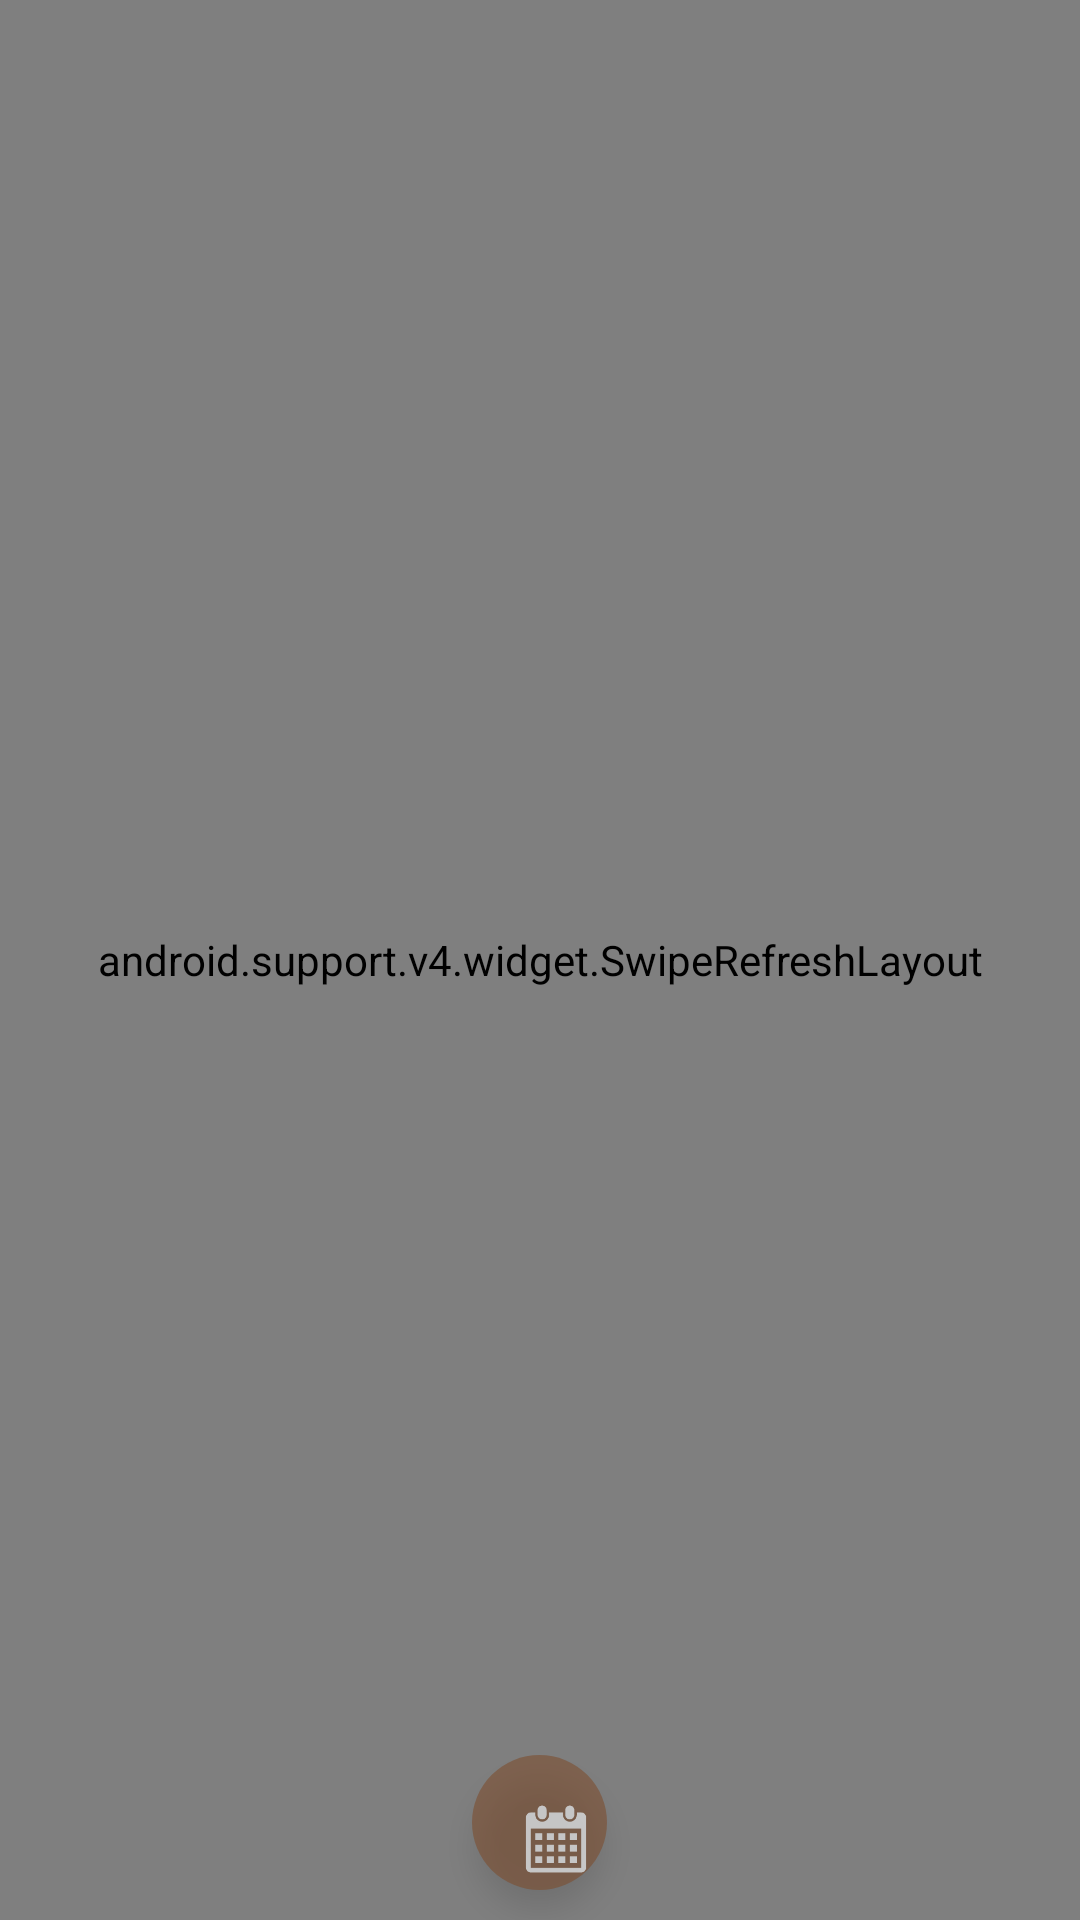

Icons on this 1080w x 1920h Android screen, each with the point to tap as [x,y]:
date: [539,1822]
